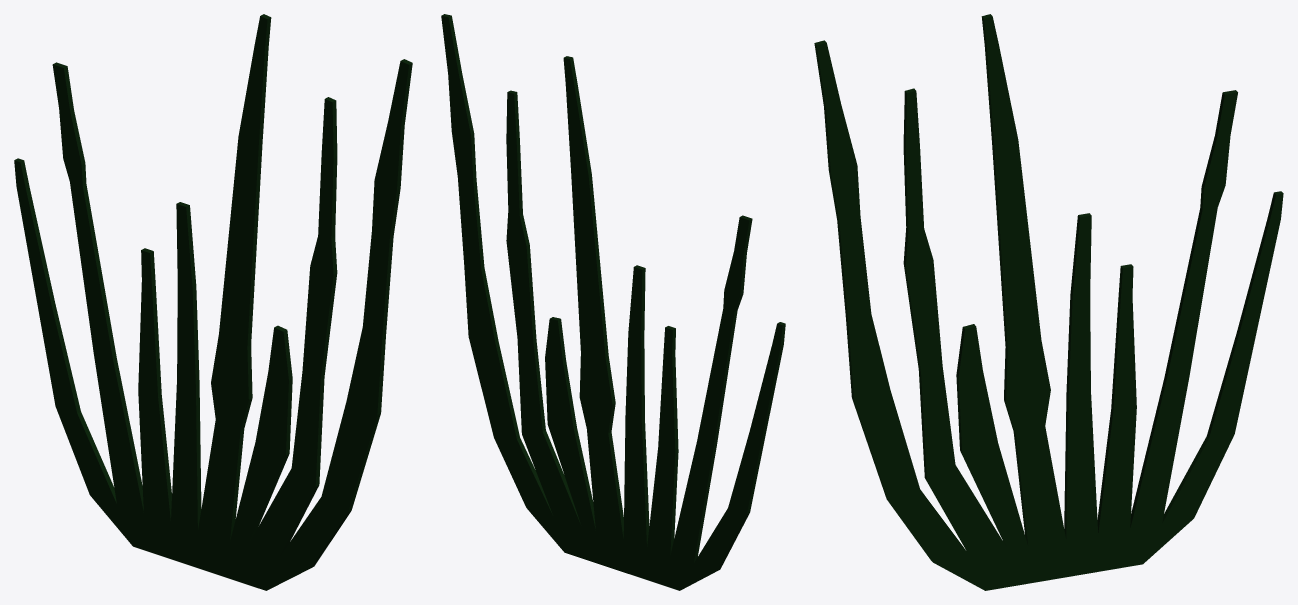
File: Seaweed_Mid.obj
3 renders of one model, left to right at view 1: azimuth 30°, elevation 25°; view 2: azimuth 210°, elevation 25°; view 3: azimuth 270°, elevation 25°, orthographic. The views are drawn at different scales.
Size of the model in its own units: 0.6933 by 2.29 by 1.69.
